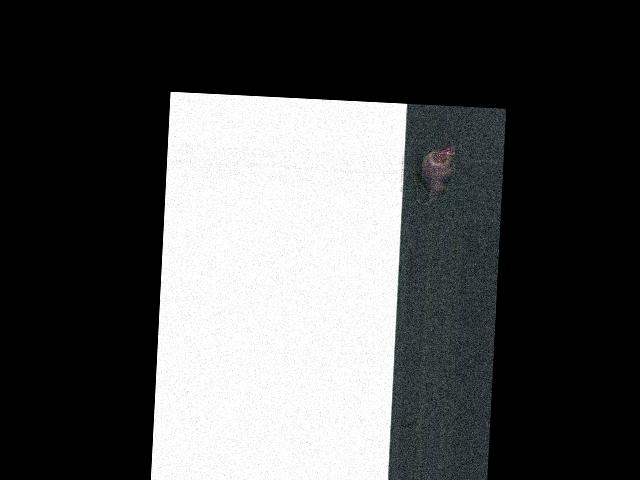beet: (412, 142, 456, 206)
